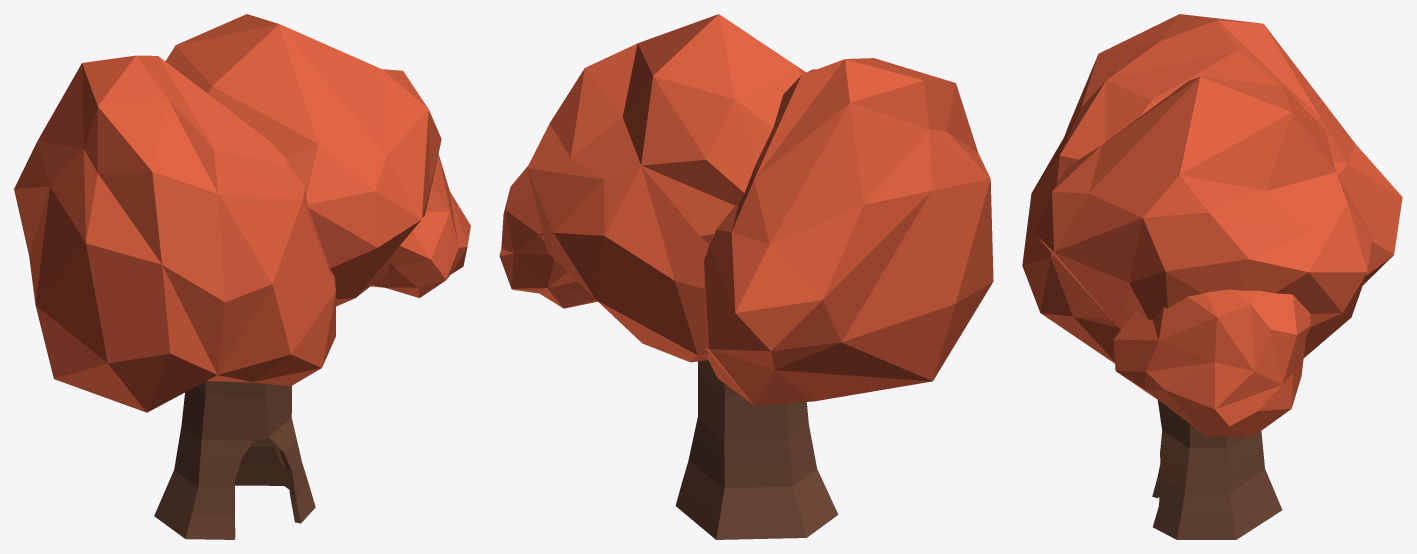
File: Maple_Tree.fbx
The picture shows the model from 3 angles, left to right: view 1: azimuth 30°, elevation 25°; view 2: azimuth 150°, elevation 25°; view 3: azimuth 270°, elevation 25°; orthographic projection. The views are drawn at different scales.
Parts seen in each view (by area): view 1: Icosphere.001, Icosphere.002, Body, Icosphere.003; view 2: Icosphere.001, Icosphere.002, Body, Icosphere.003; view 3: Icosphere.002, Icosphere.001, Icosphere.003, Body.
Boxes of the visible parts, x1,y1,x2,y2 form: Icosphere.001: (14,55,335,412); Icosphere.002: (165,14,441,306); Body: (154,381,315,539); Icosphere.003: (371,154,470,297); Icosphere.001: (704,58,993,405); Icosphere.002: (527,14,805,362); Body: (675,360,838,539); Icosphere.003: (499,166,597,308); Icosphere.002: (1035,76,1372,357); Icosphere.001: (1022,14,1402,363); Icosphere.003: (1113,289,1310,436); Body: (1152,400,1282,539).
Bounding box in the file's own units: 1033 × 1080 × 823.
